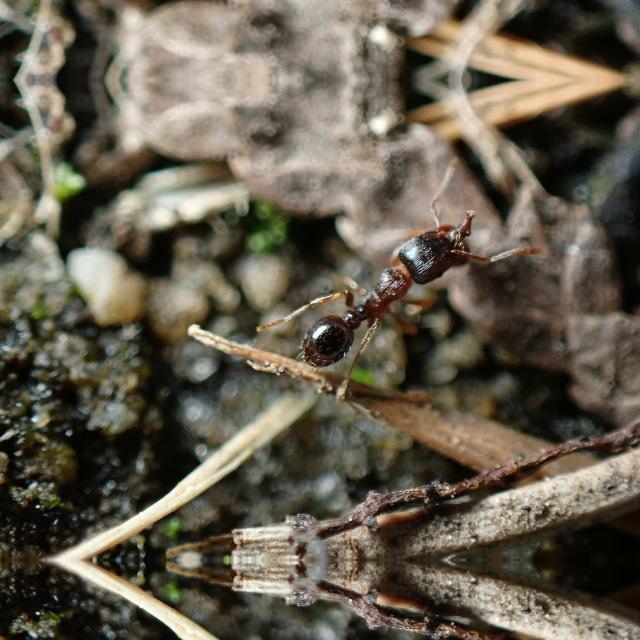Tetramorium: (290, 175, 488, 388)
